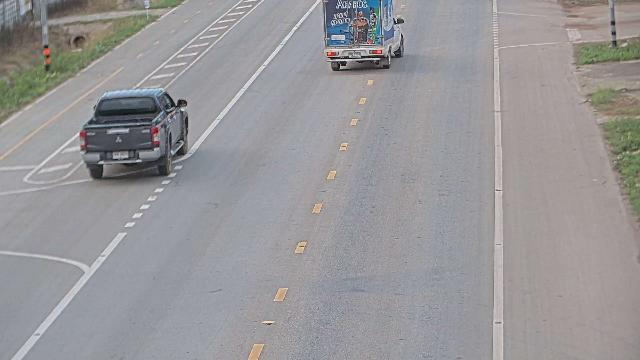pickup-truck: (78, 87, 189, 180)
truck: (324, 0, 406, 70)
